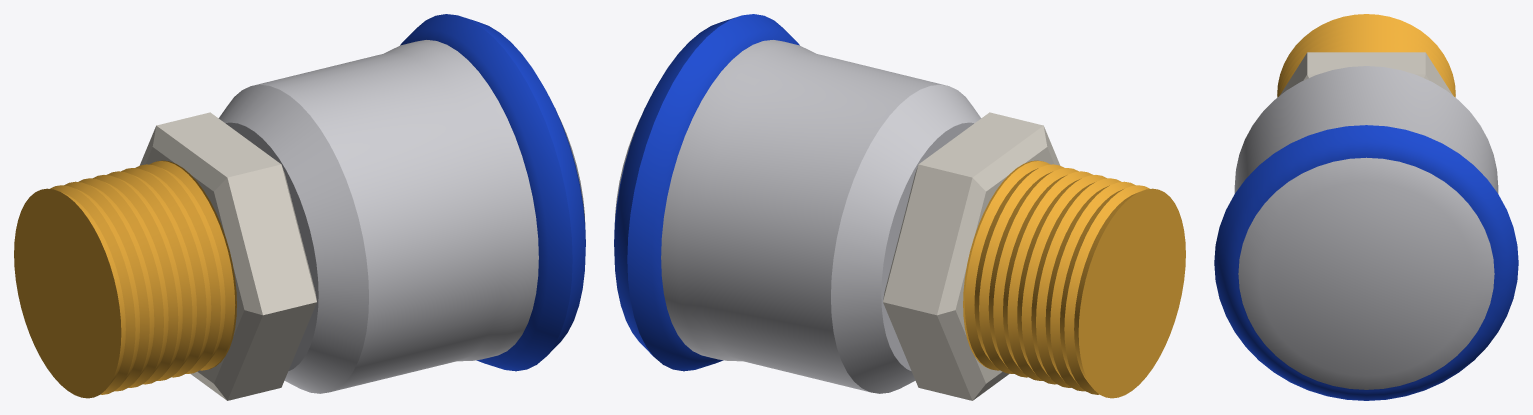
File: fitting_adp_22x12_M.glb
3 renders of one model, left to right at view 1: azimuth 30°, elevation 25°; view 2: azimuth 150°, elevation 25°; view 3: azimuth 270°, elevation 25°, orthographic. The views are drawn at different scales.
Visible parts, largest first — view 1: раструб, резьба НР, шестигранник переходника, кольцо пресс; view 2: раструб, резьба НР, шестигранник переходника, кольцо пресс; view 3: раструб, кольцо пресс, резьба НР, шестигранник переходника.
Part boxes in pixels (x1=…): раструб: x1=218, y1=40, x2=585, y2=393; резьба НР: x1=14, y1=160, x2=236, y2=398; шестигранник переходника: x1=139, y1=112, x2=316, y2=400; кольцо пресс: x1=400, y1=14, x2=585, y2=371; раструб: x1=614, y1=40, x2=981, y2=393; резьба НР: x1=963, y1=160, x2=1185, y2=398; шестигранник переходника: x1=883, y1=112, x2=1060, y2=400; кольцо пресс: x1=614, y1=14, x2=799, y2=371; раструб: x1=1234, y1=66, x2=1498, y2=389; кольцо пресс: x1=1214, y1=125, x2=1518, y2=400; резьба НР: x1=1277, y1=14, x2=1455, y2=97; шестигранник переходника: x1=1280, y1=52, x2=1452, y2=95.
Size of the model in its own units: 0.051 by 0.0356 by 0.0356.
